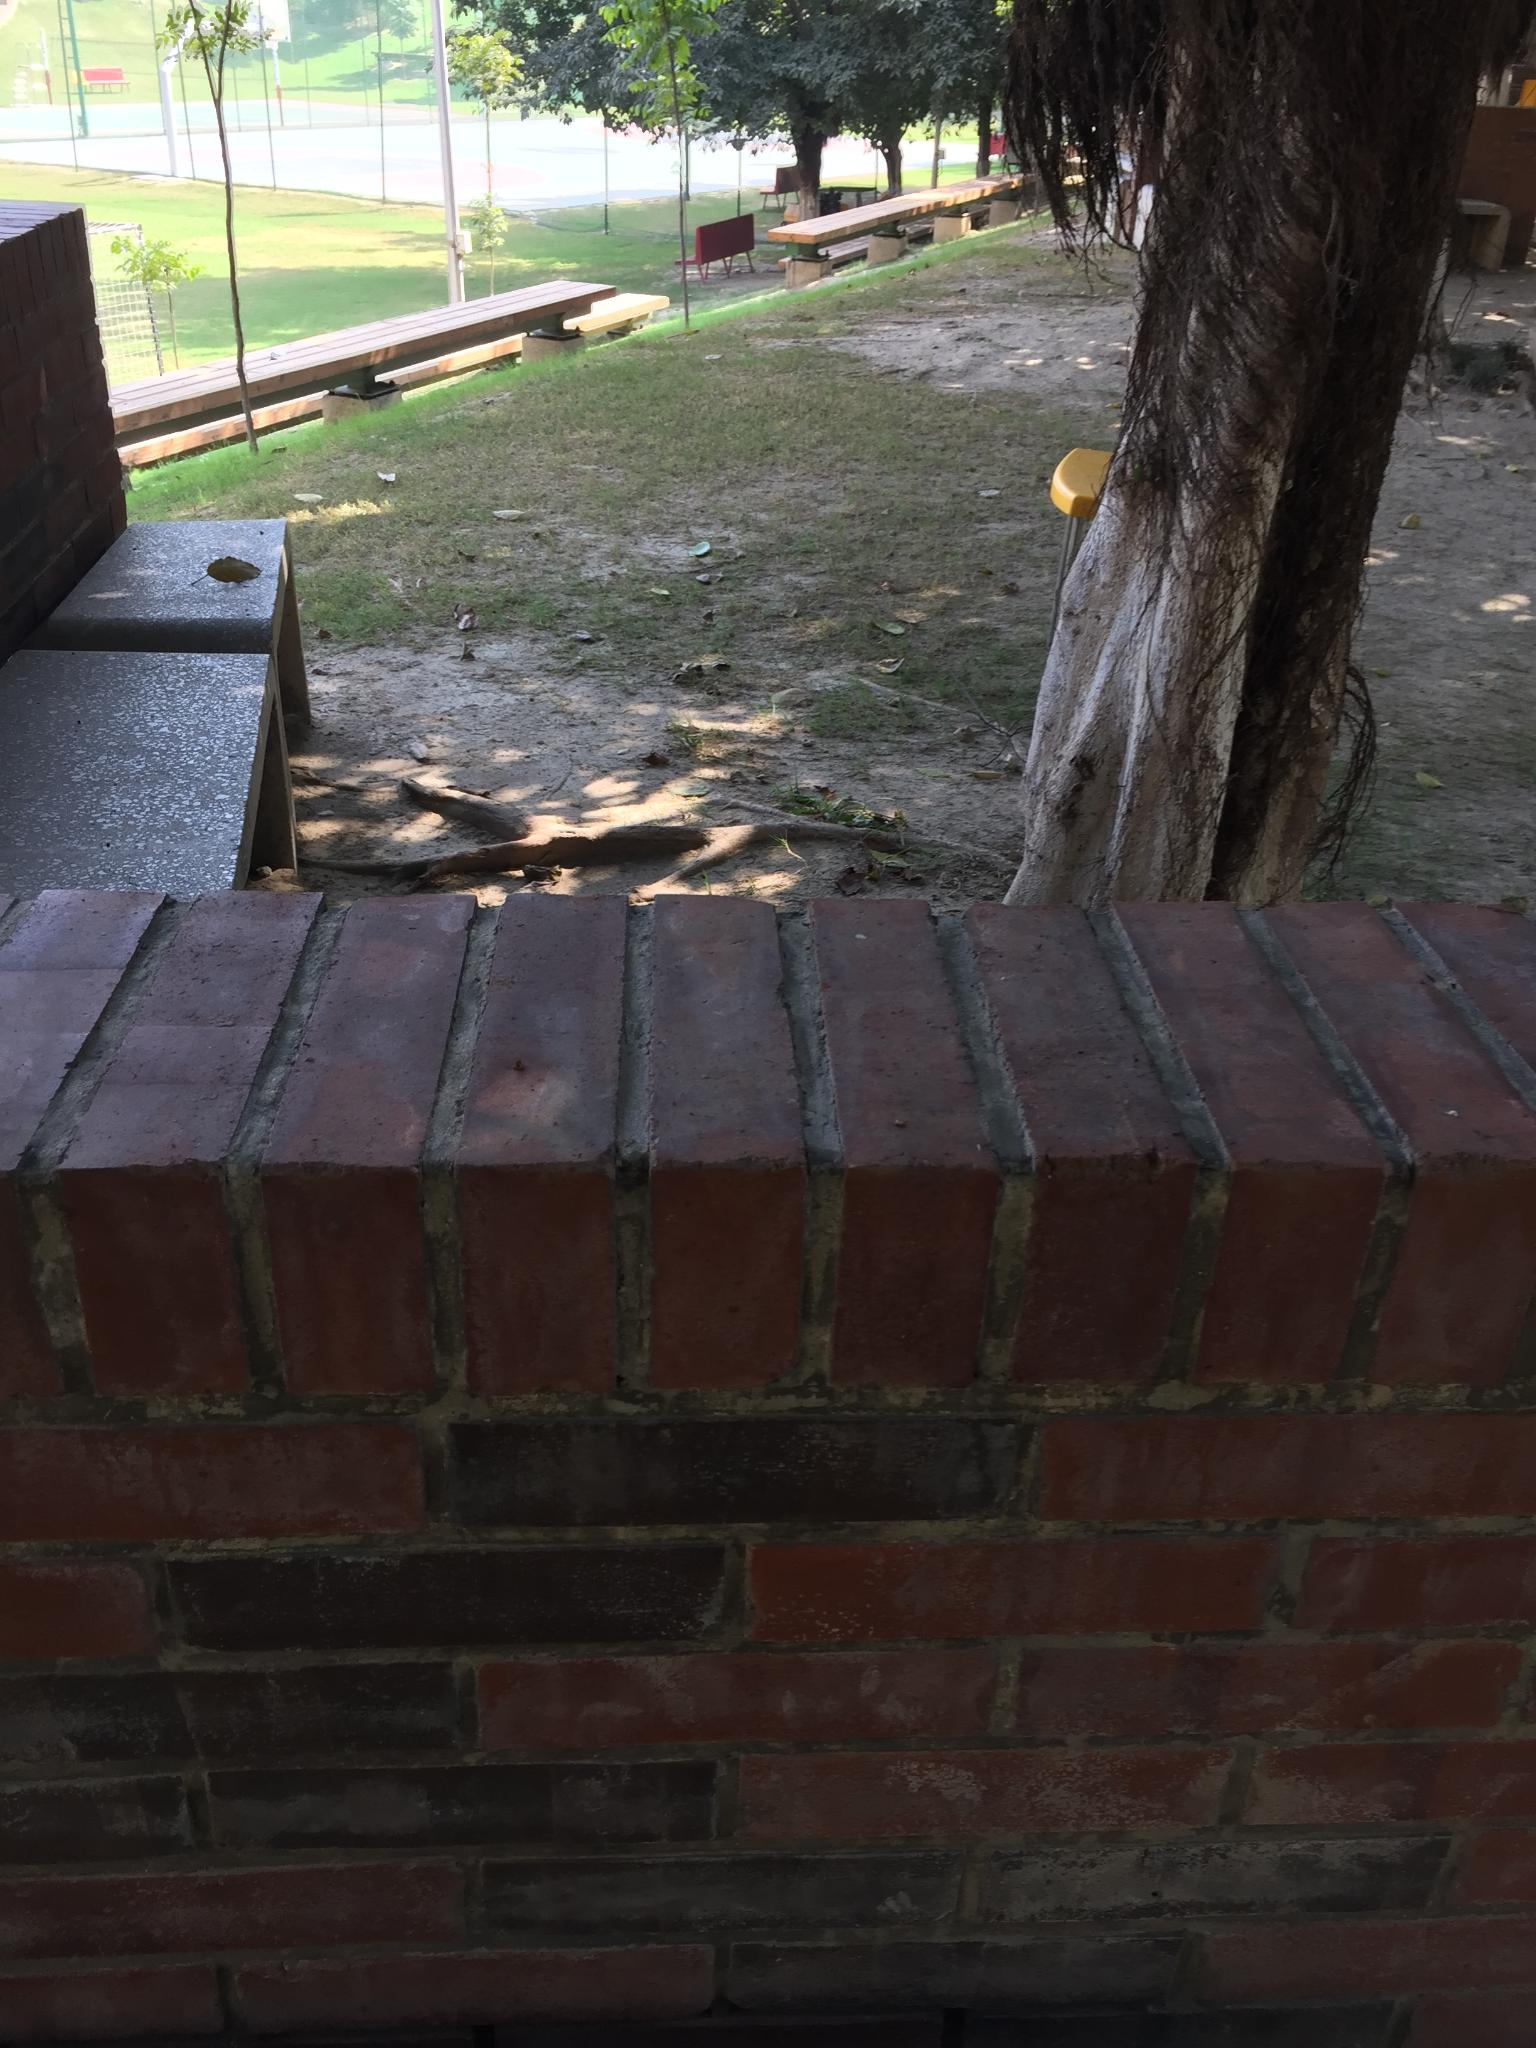chair: (1049, 321, 1328, 653)
